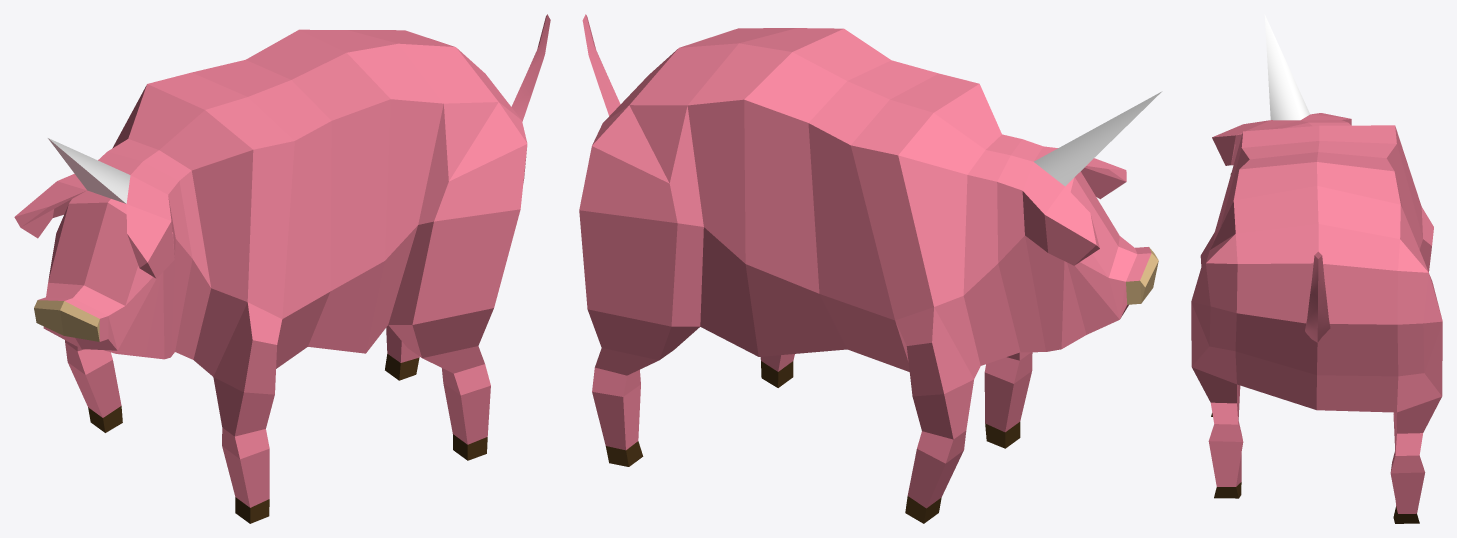
File: pigRunning8.obj
3 views of the same model, side by side, from view 1: azimuth 30°, elevation 25°; view 2: azimuth 150°, elevation 25°; view 3: azimuth 270°, elevation 25° (orthographic). The views are drawn at different scales.
Parts seen in each view (by area): view 1: Pig_Cylinder.002_Pig_Cylinder.003; view 2: Pig_Cylinder.002_Pig_Cylinder.003; view 3: Pig_Cylinder.002_Pig_Cylinder.003.
Part boxes in pixels (x1,y1,x2,y2): Pig_Cylinder.002_Pig_Cylinder.003: [14, 14, 550, 523]; Pig_Cylinder.002_Pig_Cylinder.003: [579, 14, 1162, 523]; Pig_Cylinder.002_Pig_Cylinder.003: [1191, 14, 1442, 523].
Bounding box in the file's own units: 22.24 × 16.16 × 11.11.
